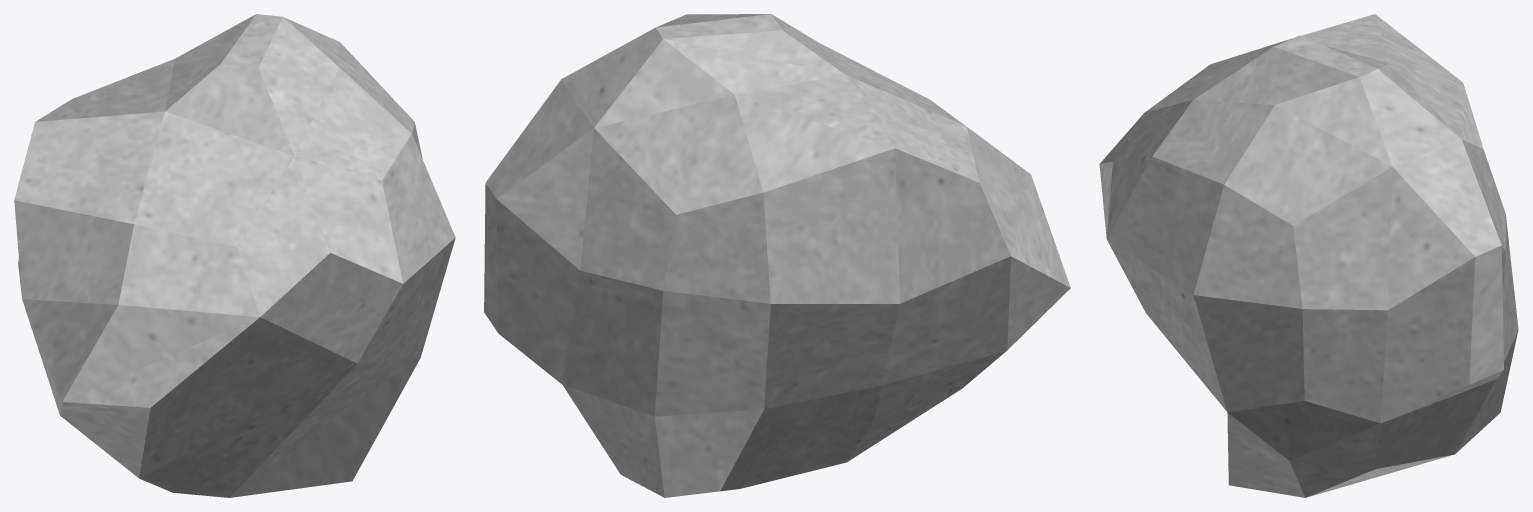
Rendered from IceHailA.gltf.
The picture shows the model from 3 angles, left to right: view 1: azimuth 30°, elevation 25°; view 2: azimuth 150°, elevation 25°; view 3: azimuth 270°, elevation 25°; orthographic projection. The views are drawn at different scales.
Parts seen in each view (by area): view 1: FoM_IceHail_TypeA-001; view 2: FoM_IceHail_TypeA-001; view 3: FoM_IceHail_TypeA-001.
Part boxes in pixels (<box>): FoM_IceHail_TypeA-001: <box>14,14,455,497</box>; FoM_IceHail_TypeA-001: <box>484,14,1070,497</box>; FoM_IceHail_TypeA-001: <box>1099,14,1518,497</box>.
Bounding box in the file's own units: 1.15 × 1.1 × 0.9879.
Materials: 1 (1 with a texture image).
